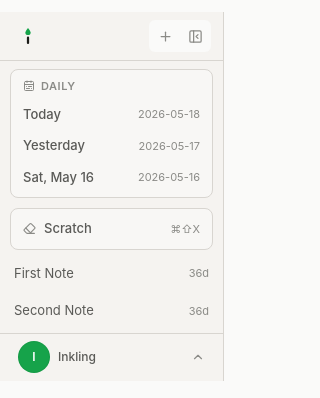
Test: Sidebar › shows note actions when right-clicking a note
Right-click the text "First Note": (44, 272) [14, 264, 74, 280]
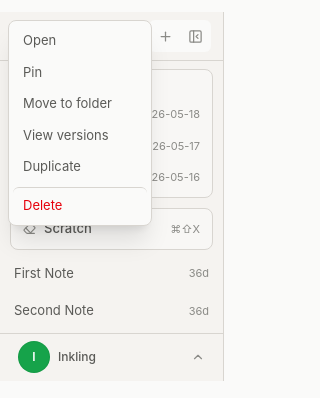
Now the menu item "Open" is shown, box [23, 32, 56, 48]
Now the menu item "Pin" is shown, box [23, 64, 42, 80]
Now the menu item "Move to folder" is shown, box [23, 95, 112, 111]
